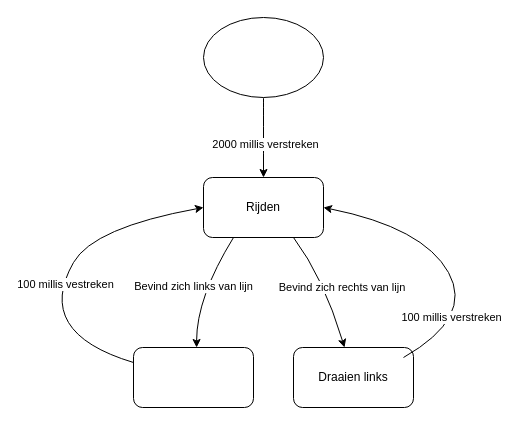
This 519x425 diagram has some shape labels left out. Here are the shapes that lost their labels. From the top down, the centre of each, then its label:
At (263,57): "start".
At (193,377): "Draaien rechts".
